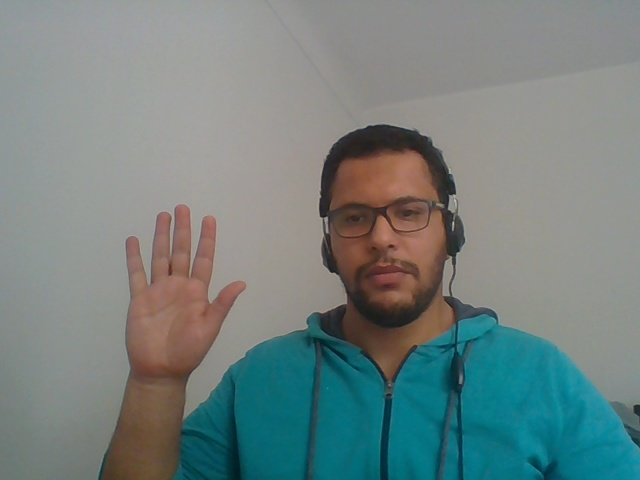hello: (103, 172, 253, 415)
